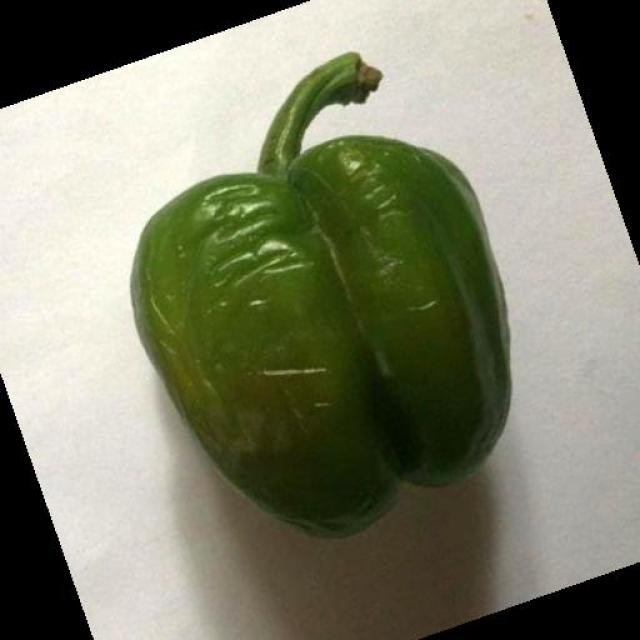Stale_Capsicum: (80, 84, 490, 548)
